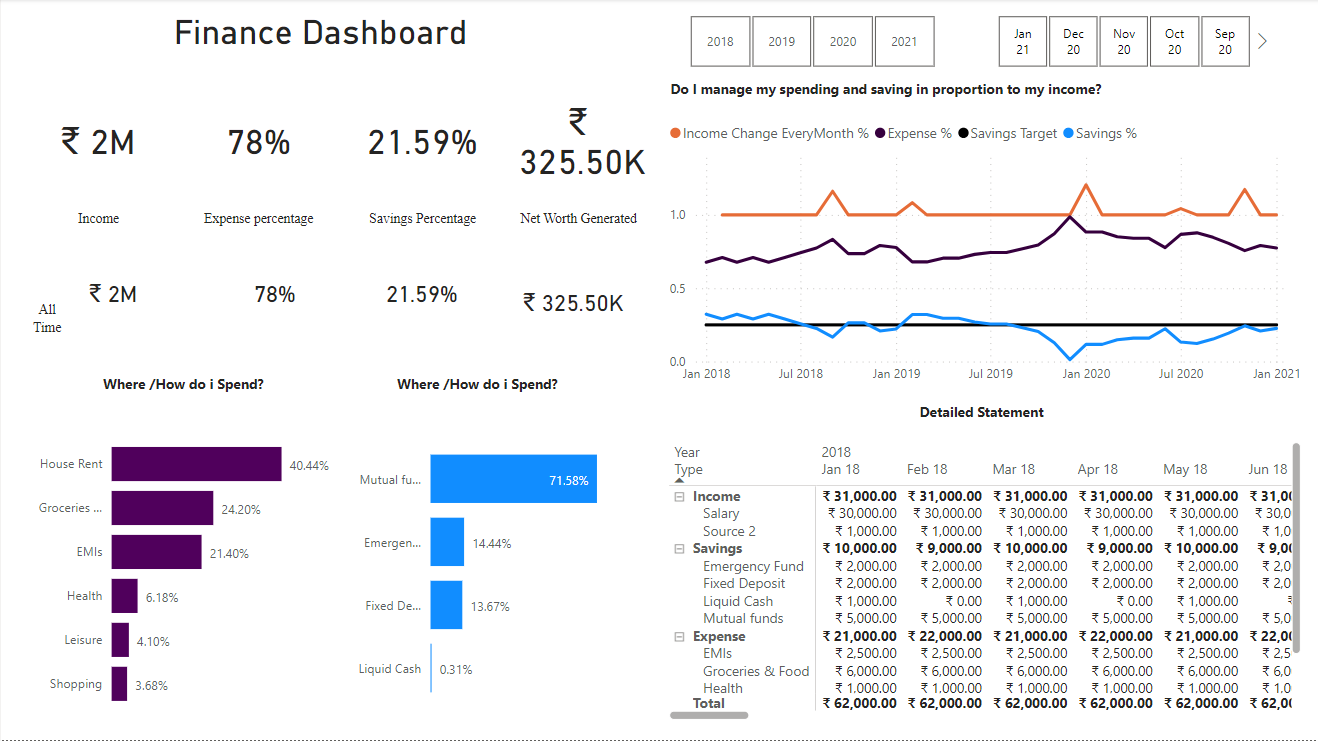

This screenshot's page, from the dashboard's own definition file:
{"tool":"powerbi","page":{"name":"Fin Dashboard","canvas":[1280,720],"ordinal":0},"visuals":[{"type":"card","fields":{"Values":["Key Measure.Expense %"]},"box":[173.3,73.3,155,126.7],"z":0},{"type":"card","fields":{"Values":["Key Measure.Total Income"]},"box":[16.7,73.3,155,126.7],"z":1000},{"type":"card","fields":{"Values":["Key Measure.Savings %"]},"box":[331.7,73.3,156.7,126.7],"z":2000},{"type":"card","fields":{"Values":["Key Measure.Total Saving"]},"box":[486.7,73.3,156.7,126.7],"z":3000},{"type":"textbox","box":[16.7,198.3,156.7,48.3],"z":4000},{"type":"textbox","box":[171.7,198.3,156.7,48.3],"z":5000},{"type":"textbox","box":[331.7,198.3,156.7,48.3],"z":6000},{"type":"textbox","box":[483.3,198.3,156.7,48.3],"z":7000},{"type":"slicer","fields":{"Values":["FinData.Year"]},"box":[644.3,10,286.5,62.7],"z":8000},{"type":"slicer","fields":{"Values":["FinData.Date"]},"box":[943.6,10,293.6,62.7],"z":9000},{"type":"card","fields":{"Values":["Key Measure.Expense %"]},"box":[187.2,223.3,156.7,126.7],"z":10000},{"type":"card","fields":{"Values":["Key Measure.Total Income"]},"box":[30,223.3,156.7,126.7],"z":11000},{"type":"card","fields":{"Values":["Key Measure.Savings %"]},"box":[331.7,223.3,155,126.7],"z":12000},{"type":"card","fields":{"Values":["Key Measure.Total Saving"]},"box":[478.3,231.7,155,128.3],"z":13000},{"type":"textbox","box":[16.7,286.7,56.7,60],"z":14000},{"type":"card","fields":{"Values":["Key Measure.Title"]},"box":[82.7,0,456.1,58.4],"z":15000},{"type":"clusteredBarChart","fields":{"Category":["FinData.Component"],"Y":["Key Measure.Total Expense"]},"box":[16.7,405,313.3,300],"z":16000},{"type":"textbox","box":[45,360,265,36.7],"z":17000},{"type":"clusteredBarChart","fields":{"Category":["FinData.Component"],"Y":["Key Measure.Total Saving"]},"box":[330,405,295,300],"z":18000},{"type":"textbox","box":[330,360,265,36.7],"z":19000},{"type":"lineChart","fields":{"Category":["FinData.Date"],"Y":["Key Measure.Income Change EveryMonth %","Key Measure.Expense %","Key Measure.Savings Target","Key Measure.Savings %"]},"box":[644.3,110,624.3,272.9],"z":20000},{"type":"textbox","box":[645.7,72.9,467.1,37.1],"z":20001},{"type":"pivotTable","fields":{"Values":["Key Measure.Values"],"Columns":["FinData.Year","FinData.Date"],"Rows":["Type.Type","FinData.Component"]},"box":[644.3,425.7,624.3,280],"z":20002},{"type":"textbox","box":[647.1,387.1,611.4,37.1],"z":20003}]}

Visuals, with their boxes in screenshot pixels (x1, y1, x2, y2), scaled from the page's 1280x720 canvas onto the 1318x741 screenshot:
card - Key Measure.Expense %: bbox(178, 75, 338, 206)
card - Key Measure.Total Income: bbox(17, 75, 177, 206)
card - Key Measure.Savings %: bbox(342, 75, 503, 206)
card - Key Measure.Total Saving: bbox(501, 75, 663, 206)
textbox: bbox(17, 204, 179, 254)
textbox: bbox(177, 204, 338, 254)
textbox: bbox(342, 204, 503, 254)
textbox: bbox(498, 204, 659, 254)
slicer - FinData.Year: bbox(663, 10, 958, 75)
slicer - FinData.Date: bbox(972, 10, 1274, 75)
card - Key Measure.Expense %: bbox(193, 230, 354, 360)
card - Key Measure.Total Income: bbox(31, 230, 192, 360)
card - Key Measure.Savings %: bbox(342, 230, 501, 360)
card - Key Measure.Total Saving: bbox(492, 238, 652, 370)
textbox: bbox(17, 295, 76, 357)
card - Key Measure.Title: bbox(85, 0, 555, 60)
clusteredBarChart - FinData.Component x Key Measure.Total Expense: bbox(17, 417, 340, 726)
textbox: bbox(46, 370, 319, 408)
clusteredBarChart - FinData.Component x Key Measure.Total Saving: bbox(340, 417, 644, 726)
textbox: bbox(340, 370, 613, 408)
lineChart - FinData.Date x Key Measure.Income Change EveryMonth %: bbox(663, 113, 1306, 394)
textbox: bbox(665, 75, 1146, 113)
pivotTable - Key Measure.Values x FinData.Year: bbox(663, 438, 1306, 726)
textbox: bbox(666, 398, 1296, 437)
